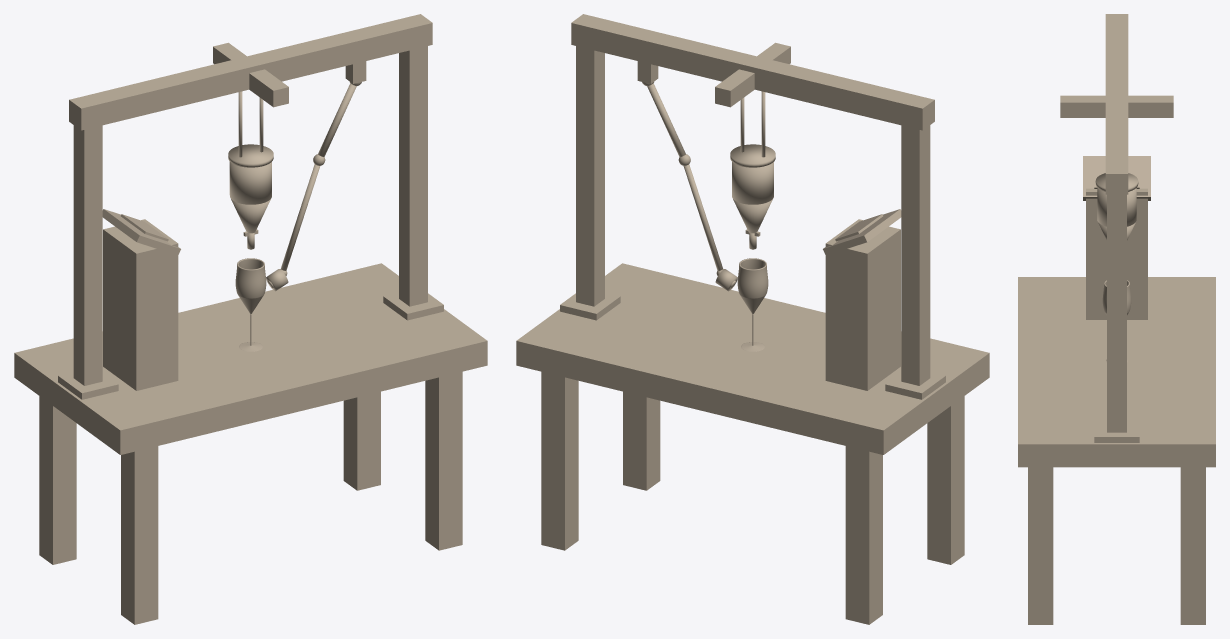
The model's file is 3dcodebench_Wineglass_seed0_L6_Q0__kimi_k3.glb.
3 renders of one model, left to right at view 1: azimuth 30°, elevation 25°; view 2: azimuth 150°, elevation 25°; view 3: azimuth 270°, elevation 25°, orthographic. The views are drawn at different scales.
Visible parts, largest first — view 1: object; view 2: object; view 3: object.
Part boxes in pixels (box(x1,y1,x2,y2)): object: box(14, 14, 487, 624); object: box(516, 14, 989, 624); object: box(1018, 14, 1215, 624).
Bounding box in the file's own units: 1.4 × 1.78 × 0.7.
